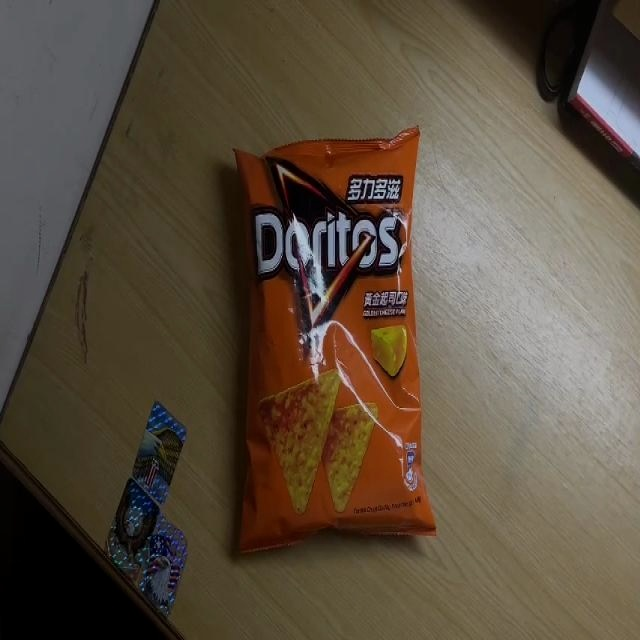Doritos: (229, 120, 436, 560)
